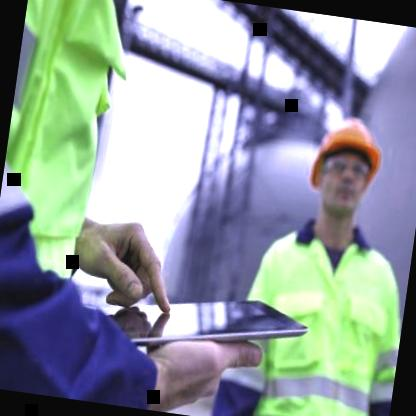helmet: (296, 97, 395, 242)
